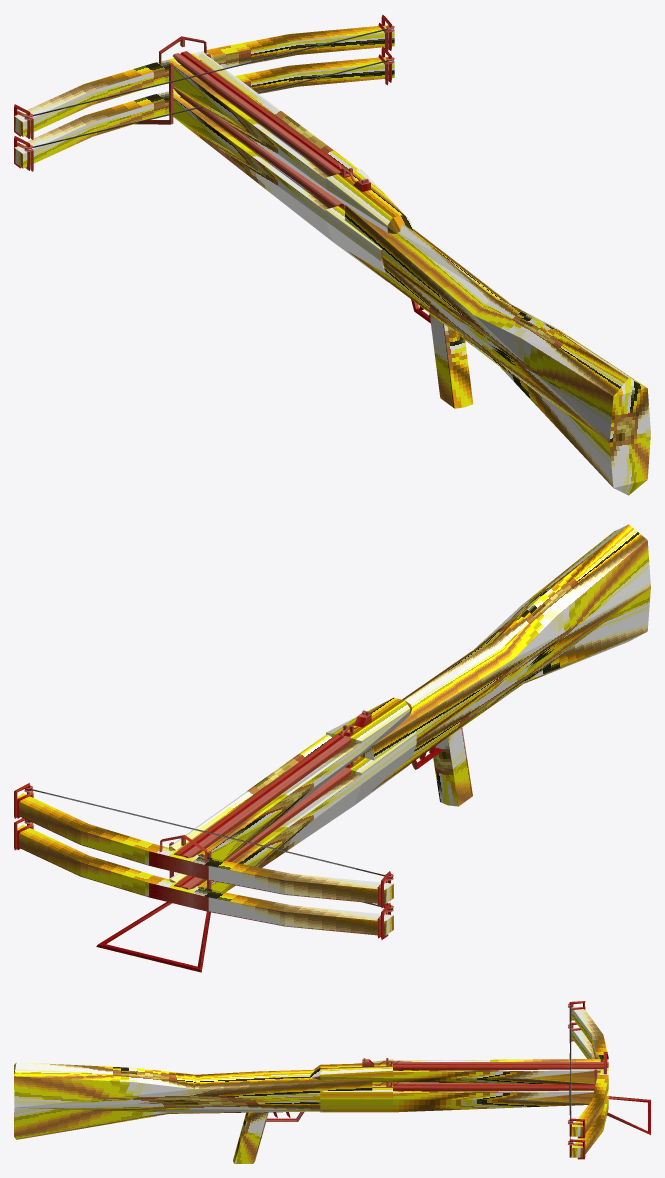
Rendered from double_crossbow.obj.
The picture shows the model from 3 angles, top to bottom: view 1: azimuth 30°, elevation 25°; view 2: azimuth 150°, elevation 25°; view 3: azimuth 270°, elevation 25°; orthographic projection. The views are drawn at different scales.
Parts seen in each view (by area): view 1: Torus.009_Torus.008, Torus.000, Torus.001_Torus.007; view 2: Torus.009_Torus.008, Torus.001_Torus.007, Torus.000; view 3: Torus.009_Torus.008, Torus.000, Torus.001_Torus.007.
Part boxes in pixels (x1=…): Torus.009_Torus.008: x1=338, y1=163, x2=650, y2=495; Torus.000: x1=134, y1=36, x2=413, y2=282; Torus.001_Torus.007: x1=14, y1=14, x2=394, y2=171; Torus.009_Torus.008: x1=338, y1=524, x2=650, y2=806; Torus.001_Torus.007: x1=14, y1=783, x2=393, y2=939; Torus.000: x1=96, y1=697, x2=416, y2=972; Torus.009_Torus.008: x1=14, y1=1058, x2=399, y2=1163; Torus.000: x1=310, y1=1052, x2=650, y2=1134; Torus.001_Torus.007: x1=568, y1=1001, x2=608, y2=1159.
Bounding box in the file's own units: 3.45 × 1.45 × 7.77.
